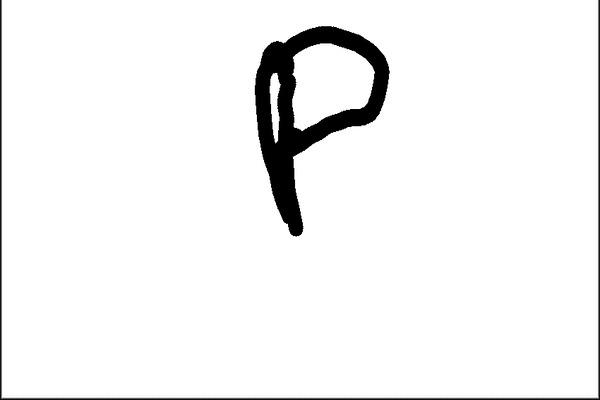P: (235, 18, 395, 241)
